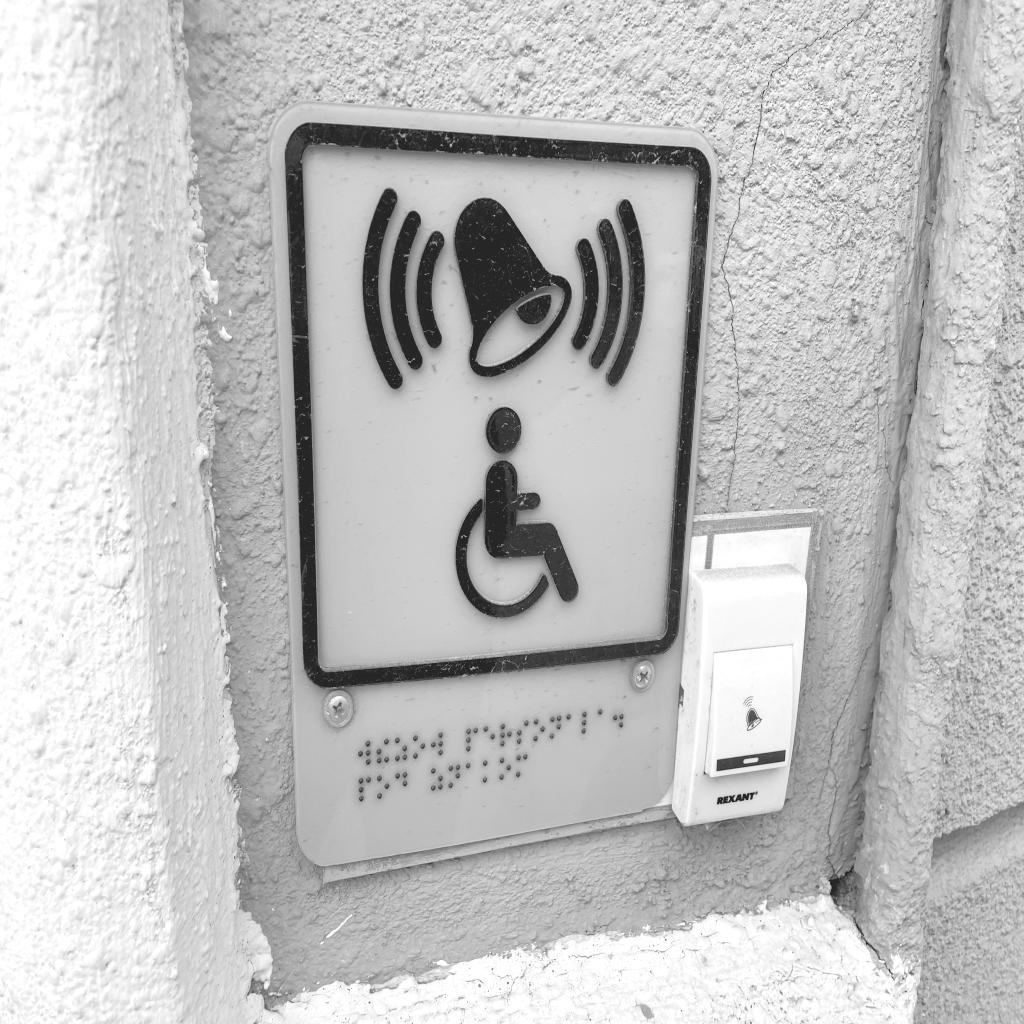_n: (448, 764, 461, 789), (550, 715, 562, 739)
a: (465, 762, 478, 786), (566, 714, 577, 737), (598, 709, 609, 731)
d: (395, 771, 407, 796)
e: (483, 725, 496, 749)
ii: (376, 738, 390, 764)
k: (482, 760, 494, 783)
l: (582, 711, 594, 734)
m: (516, 753, 528, 778)
o: (412, 734, 426, 759), (377, 775, 390, 798), (499, 757, 511, 781), (533, 719, 545, 742)
p: (466, 727, 478, 752), (359, 777, 371, 801)
r: (500, 724, 512, 747)
s: (516, 720, 529, 744)
tochka: (613, 705, 624, 728)
v: (358, 740, 371, 765), (431, 731, 444, 756)
z: (394, 737, 408, 761), (430, 767, 443, 791)
